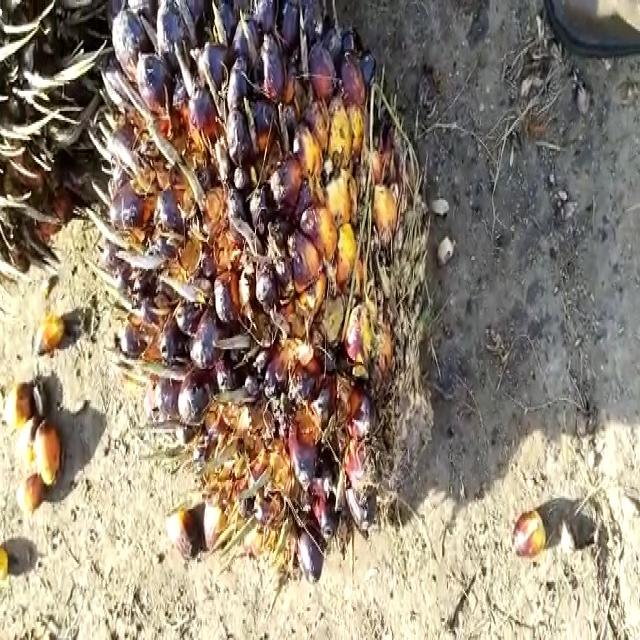palm oil: (102, 0, 456, 578)
